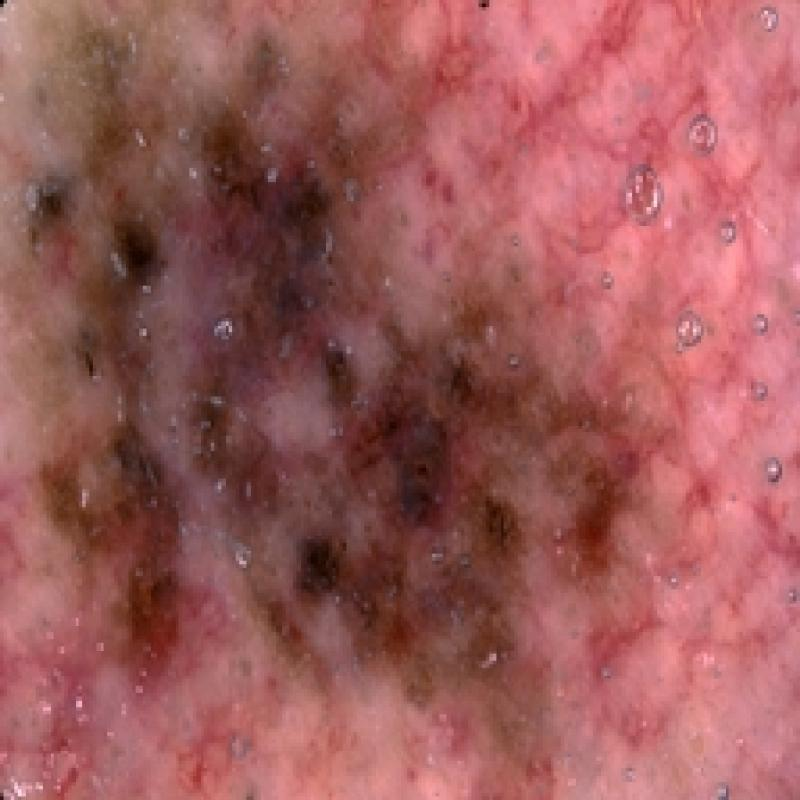malignant: (21, 81, 688, 713)
